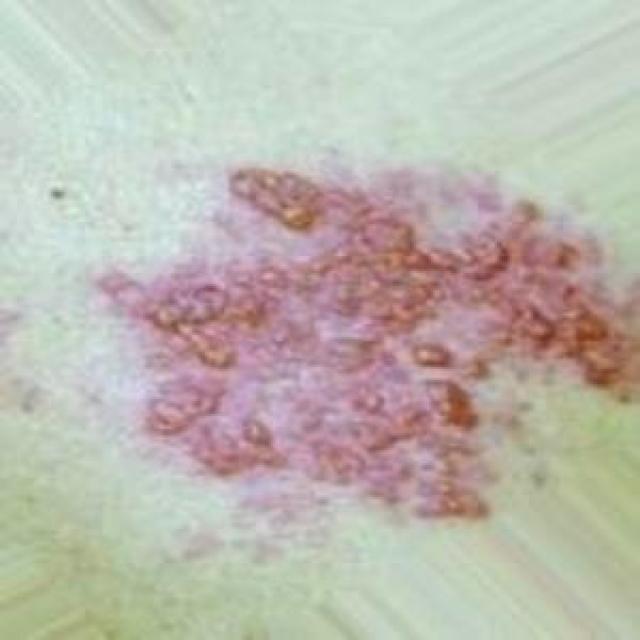Shingles: (95, 162, 640, 523)
